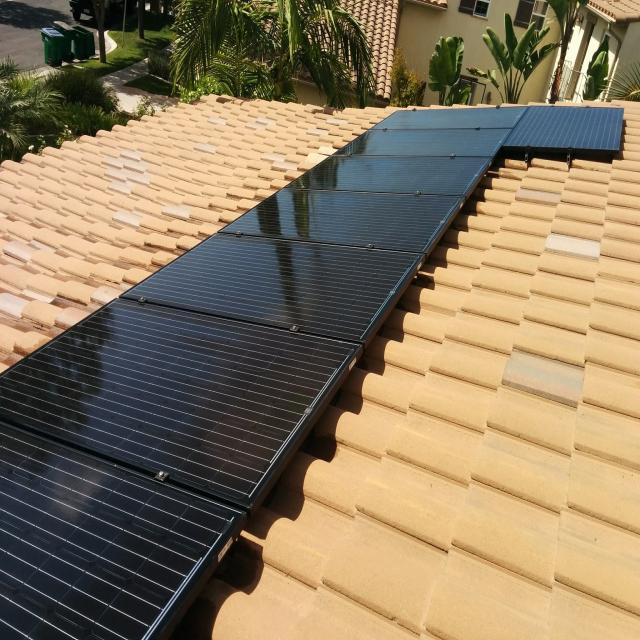clean-solar-panel: (0, 107, 622, 637)
